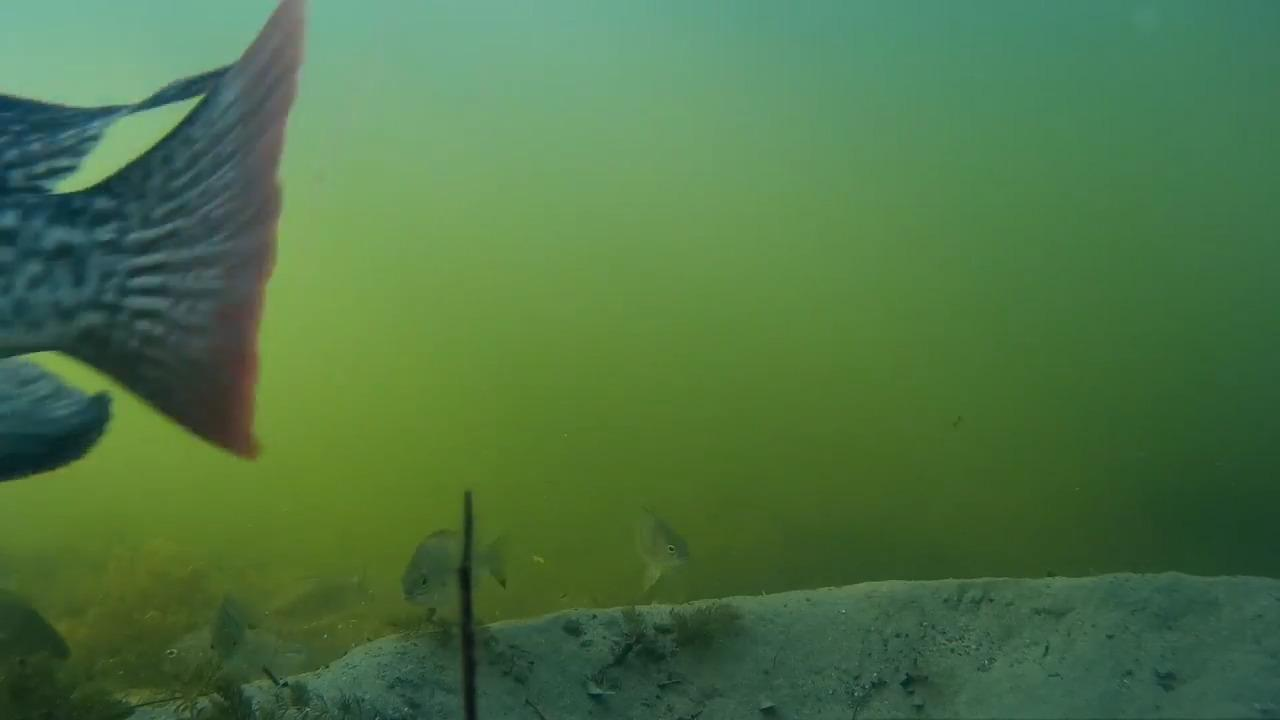Tilapia: (0, 53, 301, 540), (402, 514, 513, 614), (612, 500, 701, 592)
